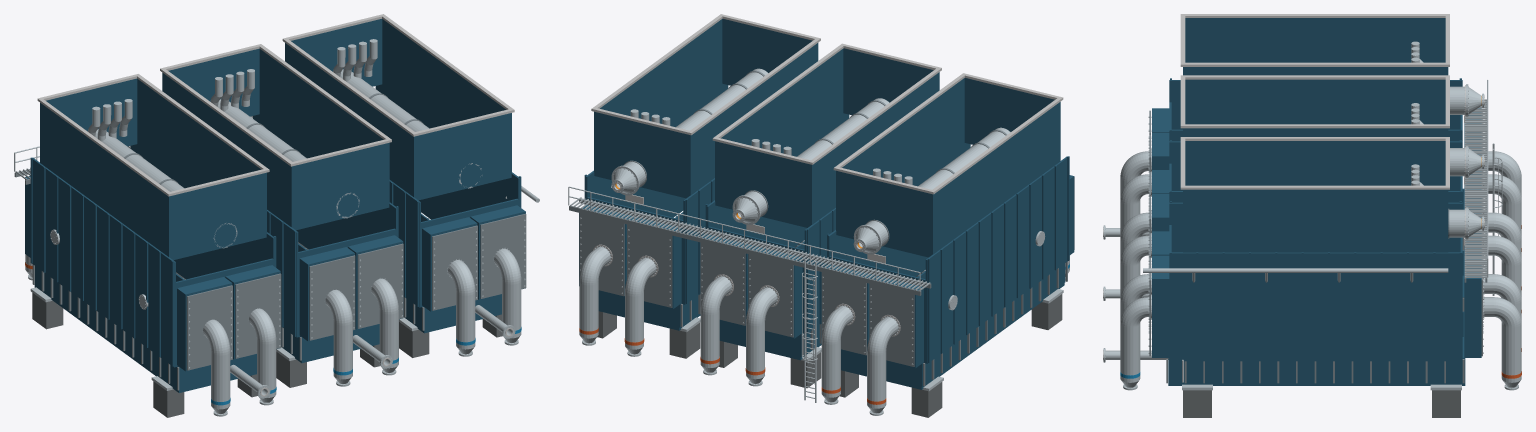
File: body.obj
The picture shows the model from 3 angles, left to right: view 1: azimuth 30°, elevation 25°; view 2: azimuth 150°, elevation 25°; view 3: azimuth 270°, elevation 25°; orthographic projection. The views are drawn at different scales.
Size of the model in its own units: 23.38 by 14 by 23.06.
